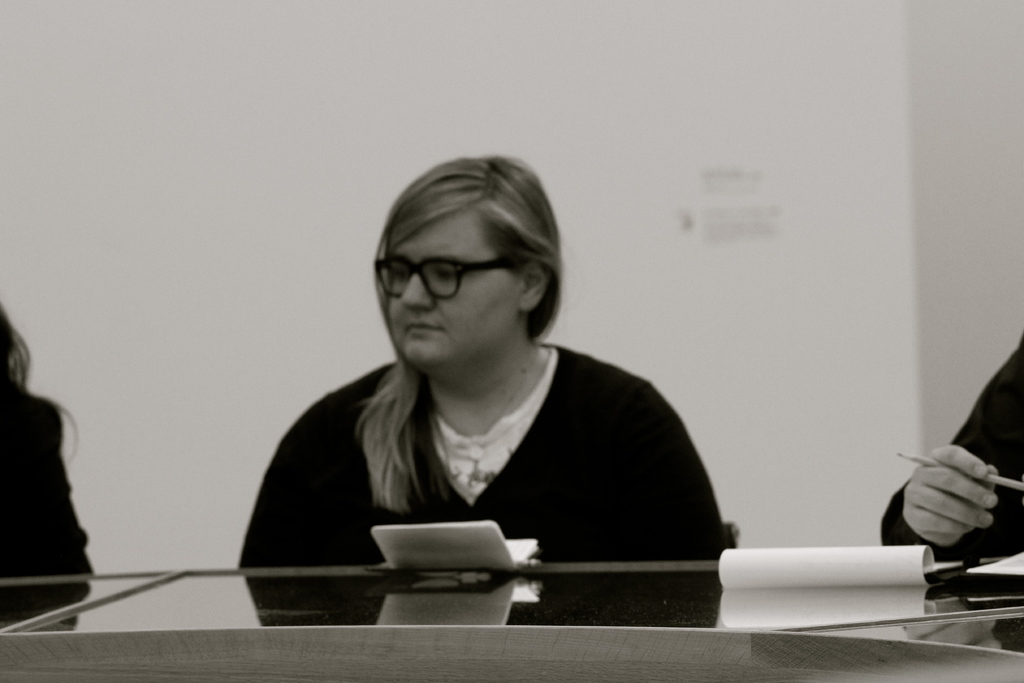Human_hand: (886, 451, 1014, 565)
